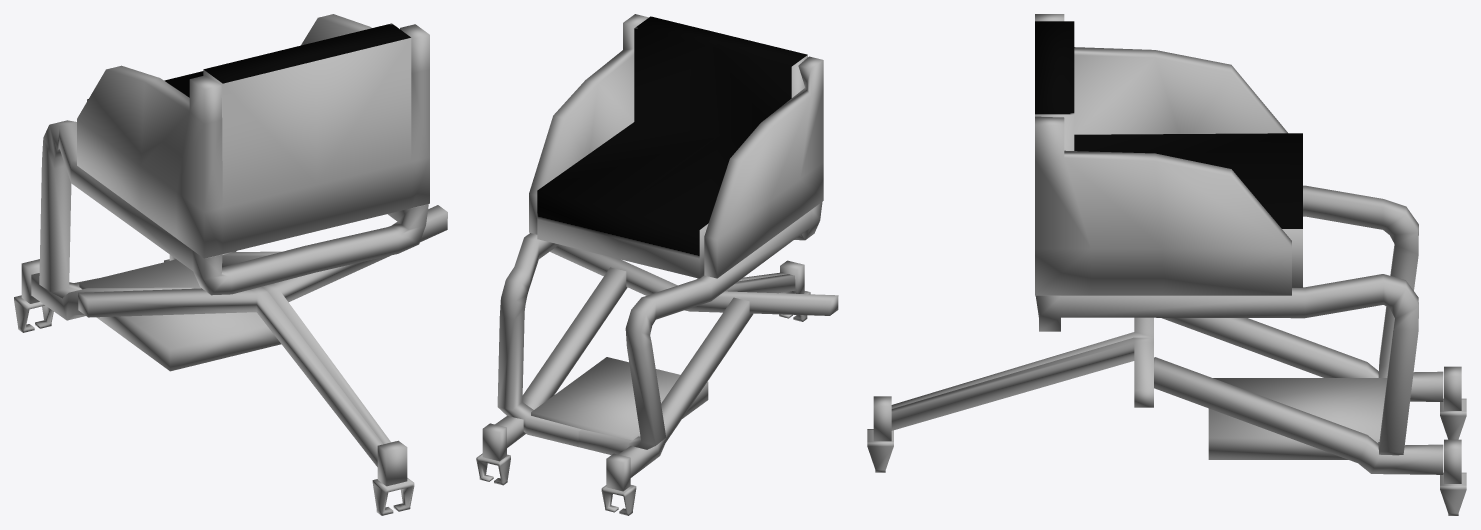
File: cadeira2.fbx
3 renders of one model, left to right at view 1: azimuth 30°, elevation 25°; view 2: azimuth 150°, elevation 25°; view 3: azimuth 270°, elevation 25°, orthographic. The views are drawn at different scales.
Parts seen in each view (by area): view 1: Cadeira; view 2: Cadeira; view 3: Cadeira.
Part boxes in pixels (x1,y1,x2,y2): Cadeira: [14, 14, 447, 515]; Cadeira: [476, 14, 838, 515]; Cadeira: [867, 14, 1466, 515].
Size of the model in its own units: 13.98 by 14.85 by 19.96.
